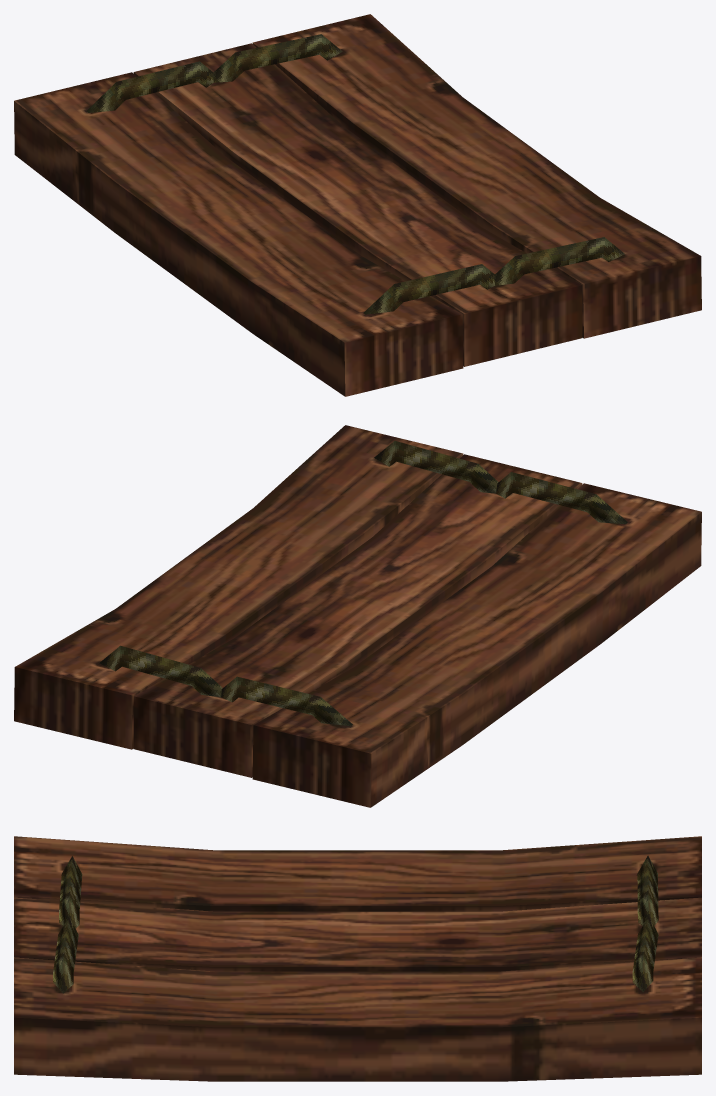
File: INST_OH_RAFT_01.fbx
3 views of the same model, one above another, from view 1: azimuth 30°, elevation 25°; view 2: azimuth 150°, elevation 25°; view 3: azimuth 270°, elevation 25° (orthographic). The views are drawn at different scales.
Parts seen in each view (by area): view 1: INST_OH_RAFT_01; view 2: INST_OH_RAFT_01; view 3: INST_OH_RAFT_01.
Boxes of the visible parts, box(x1,y1,x2,y2) form: INST_OH_RAFT_01: box(14, 14, 701, 396); INST_OH_RAFT_01: box(14, 425, 701, 807); INST_OH_RAFT_01: box(14, 836, 701, 1081).
Size of the model in its own units: 10664 by 2363 by 17085.
Materials: 3 (3 with a texture image).
